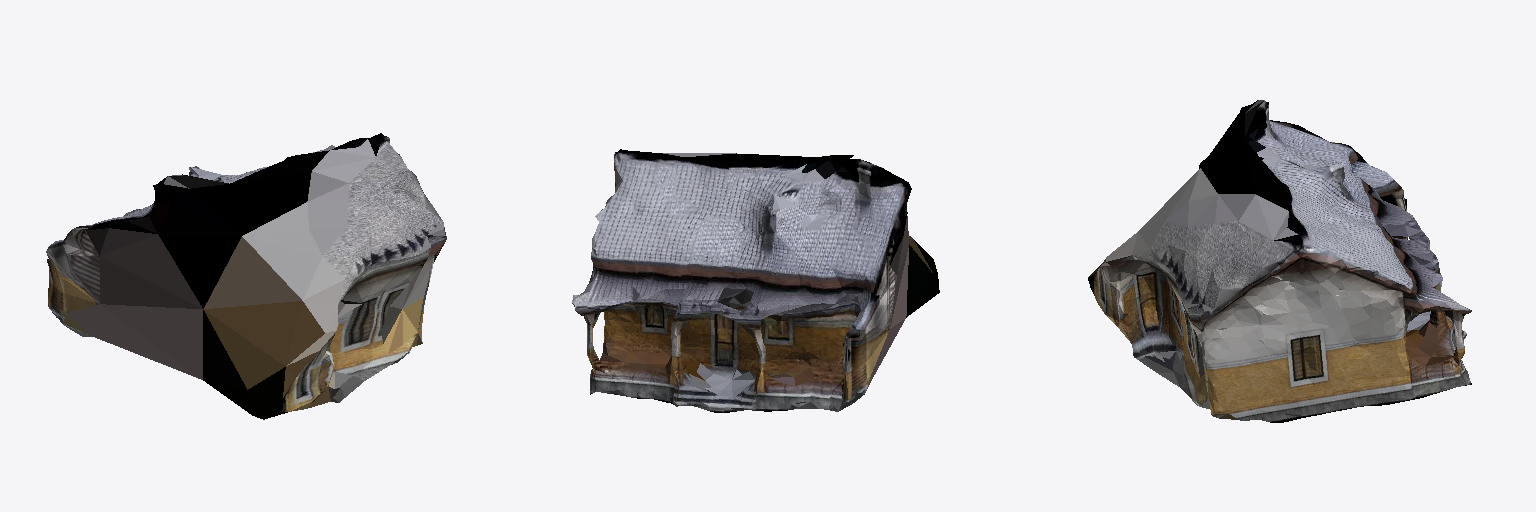
The picture shows the model from 3 angles: view 1: azimuth 30°, elevation 25°; view 2: azimuth 150°, elevation 25°; view 3: azimuth 270°, elevation 25°; orthographic projection.
Bounding box in the file's own units: 14.25 × 9.62 × 15.38.
1 materials, 1 textured.